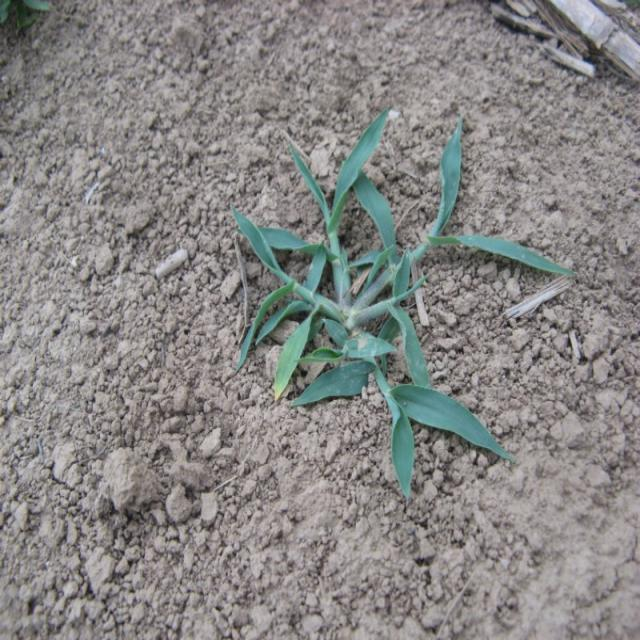bg: (231, 116, 565, 488)
